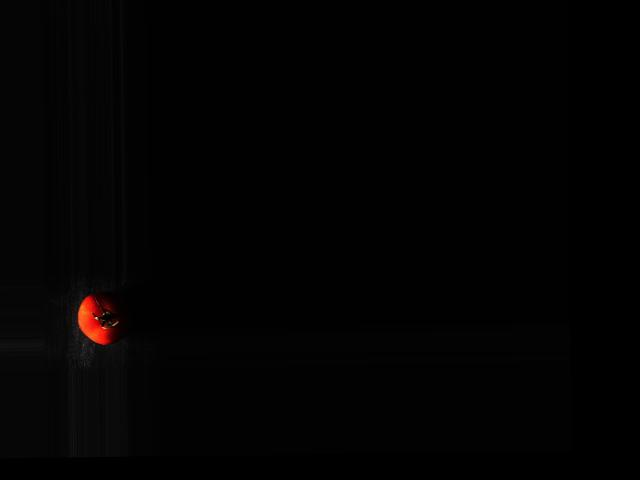tomato: (77, 291, 131, 344)
